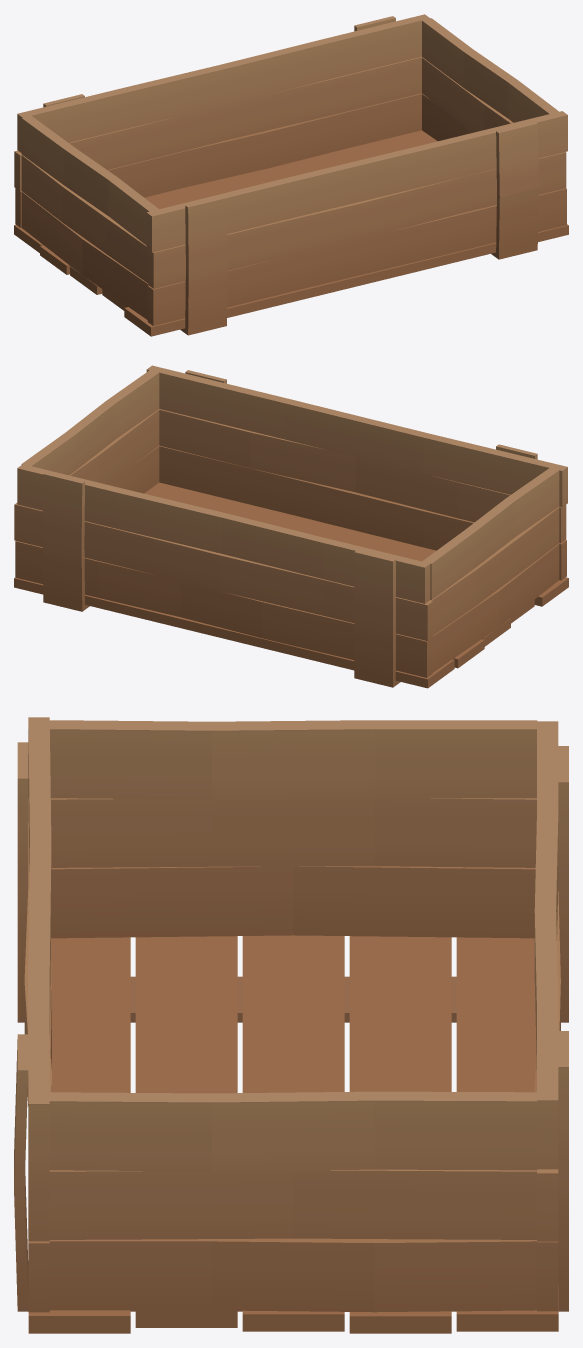
The picture shows the model from 3 angles, top to bottom: view 1: azimuth 30°, elevation 25°; view 2: azimuth 150°, elevation 25°; view 3: azimuth 270°, elevation 25°; orthographic projection. The views are drawn at different scales.
Visible parts, largest first — view 1: SM_Box_01; view 2: SM_Box_01; view 3: SM_Box_01.
Part boxes in pixels (x1,y1,x2,y2): SM_Box_01: (14, 14, 568, 336); SM_Box_01: (14, 365, 568, 688); SM_Box_01: (14, 717, 568, 1333).
Bounding box in the file's own units: 0.7533 × 0.2209 × 0.4545.
1 material, 1 textured.
